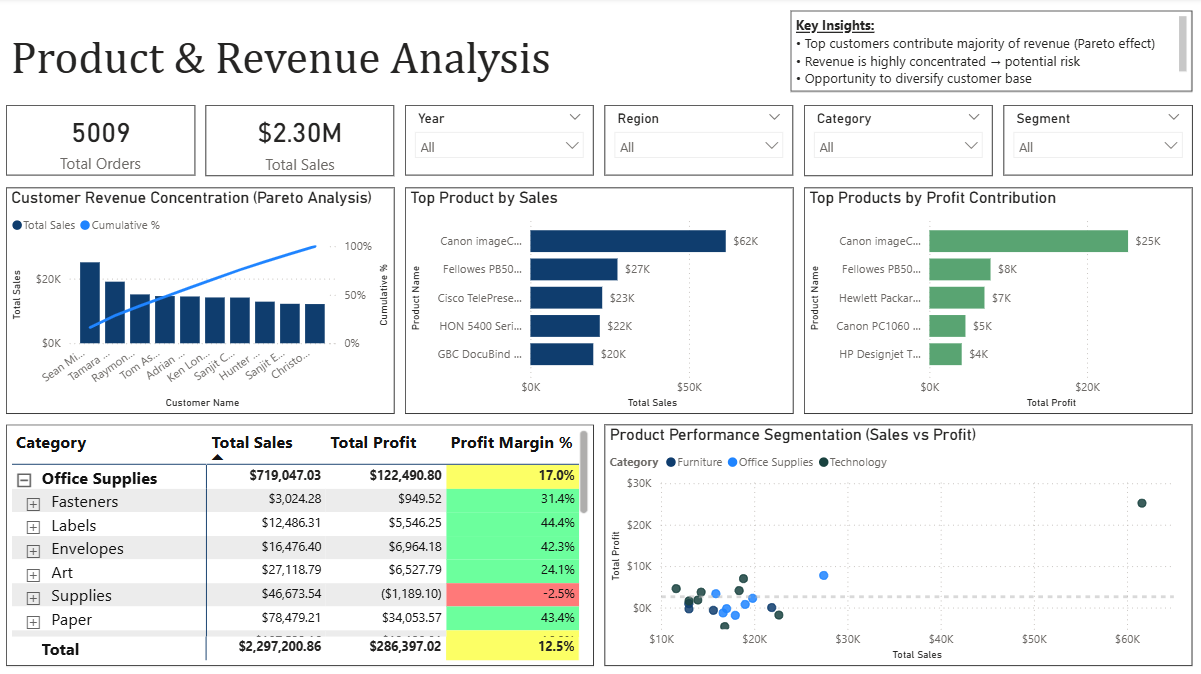

The page's visual inventory and layout, read from the dashboard file:
{"tool":"powerbi","page":{"name":"Product & Revenue Analysis","canvas":[1280,720],"ordinal":1},"visuals":[{"type":"card","fields":{"Values":["Measure.Total Orders"]},"box":[9.5,114.3,200.4,74.8],"z":0},{"type":"card","fields":{"Values":["Measure.Total Sales"]},"box":[221.1,113.8,200.3,75.6],"z":1000},{"type":"slicer","fields":{"Values":["DimDate.Year"]},"box":[432.9,114.3,200,74.8],"z":2000},{"type":"slicer","fields":{"Values":["DimRegion.Region"]},"box":[644.4,114.3,200,74.8],"z":3000},{"type":"slicer","fields":{"Values":["DimProduct.Category"]},"box":[855.8,114.3,200,75],"z":4000},{"type":"slicer","fields":{"Values":["DimCustomer.Segment"]},"box":[1067.3,114.3,200.4,74.8],"z":5000},{"type":"clusteredBarChart","title":"Top Product by Sales","fields":{"Category":["DimProduct.Product Name"],"Y":["Measure.Total Sales"]},"box":[432.6,202,412,240.2],"z":6000},{"type":"clusteredBarChart","title":"Top Products by Profit Contribution","fields":{"Y":["Measure.Total Profit"],"Category":["DimProduct.Product Name"]},"box":[855.7,202,412,240.2],"z":7000},{"type":"textbox","box":[841.4,14,426.3,85.9],"z":8000},{"type":"textbox","box":[9.5,30.2,687.1,70],"z":9000},{"type":"pivotTable","title":"Product Profitability Breakdown","fields":{"Rows":["DimProduct.Category","DimProduct.Sub-Category","DimProduct.Product Name"],"Values":["Measure.Total Sales","Measure.Total Profit","Measure.Profit Margin %"]},"box":[9.5,453.3,623.5,256.1],"z":10000},{"type":"lineClusteredColumnComboChart","title":"Customer Revenue Concentration (Pareto Analysis)","fields":{"Category":["DimCustomer.Customer Name"],"Y":["Measure.Total Sales"],"Y2":["Measure.Cumulative %"]},"box":[9.5,202,412,240.2],"z":11000},{"type":"scatterChart","title":"Product Performance Segmentation (Sales vs Profit)","fields":{"X":["Measure.Total Sales"],"Y":["Measure.Total Profit"],"Category":["FactSales.Product Name"],"Series":["FactSales.Category"]},"box":[644.2,453.3,623.5,256.1],"z":12000}]}

Visuals, with their boxes in screenshot pixels (x1, y1, x2, y2), scaled from the page's 1280x720 canvas onto the 1201x674 screenshot:
card - Measure.Total Orders: bbox(9, 107, 197, 177)
card - Measure.Total Sales: bbox(207, 107, 395, 177)
slicer - DimDate.Year: bbox(406, 107, 594, 177)
slicer - DimRegion.Region: bbox(605, 107, 792, 177)
slicer - DimProduct.Category: bbox(803, 107, 991, 177)
slicer - DimCustomer.Segment: bbox(1001, 107, 1189, 177)
"Top Product by Sales" clusteredBarChart: bbox(406, 189, 792, 414)
"Top Products by Profit Contribution" clusteredBarChart: bbox(803, 189, 1189, 414)
textbox: bbox(789, 13, 1189, 94)
textbox: bbox(9, 28, 654, 94)
"Product Profitability Breakdown" pivotTable: bbox(9, 424, 594, 664)
"Customer Revenue Concentration (Pareto Analysis)" lineClusteredColumnComboChart: bbox(9, 189, 395, 414)
"Product Performance Segmentation (Sales vs Profit)" scatterChart: bbox(604, 424, 1189, 664)
